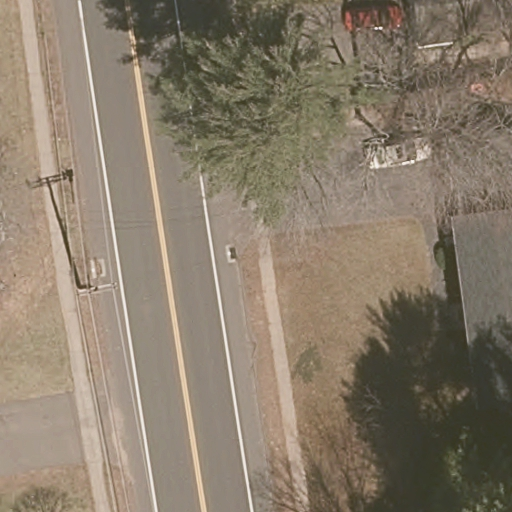DT: (77, 282, 119, 298)
